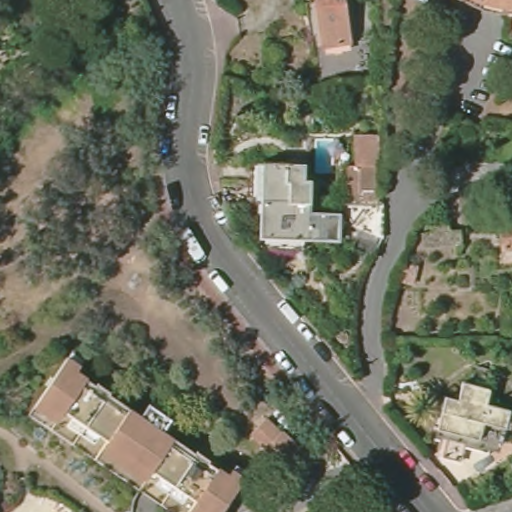pool: (314, 136, 346, 182)
